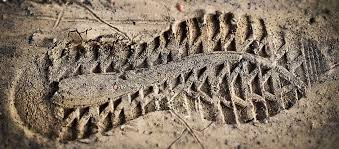human_footprint: (0, 12, 338, 142)
